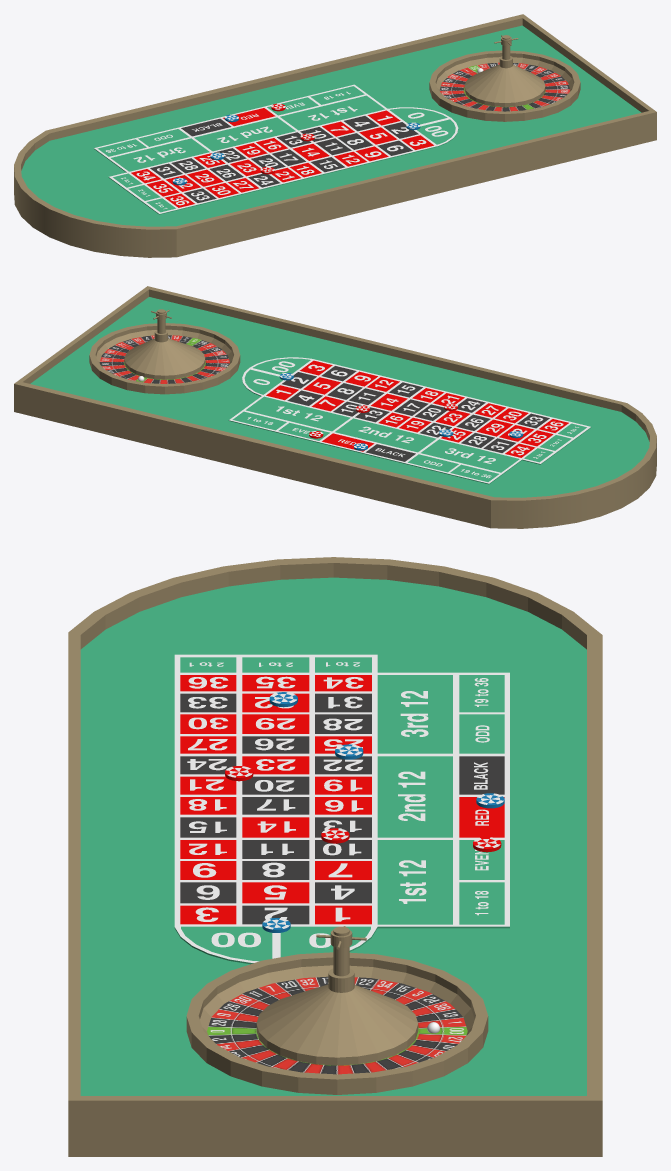
Rendered from simple_roulette_table.glb.
3 renders of one model, top to bottom at view 1: azimuth 30°, elevation 25°; view 2: azimuth 150°, elevation 25°; view 3: azimuth 270°, elevation 25°, orthographic. The views are drawn at different scales.
Parts seen in each view (by area): view 1: Material2 (×3), Material3 (×3); view 2: Material2 (×3), Material3 (×3); view 3: Material3 (×3), Material2 (×4).
Boxes of the visible parts, box(x1,y1,x2,y2) form: Material2 (×3): box(14, 14, 656, 257); Material3 (×3): box(21, 25, 641, 226); Material2 (×3): box(14, 286, 656, 528); Material3 (×3): box(30, 297, 649, 497); Material3 (×3): box(80, 577, 586, 1095); Material2 (×4): box(68, 557, 602, 1156).
Bounding box in the file's own units: 352 × 44.25 × 146.
8 materials, 1 textured.
